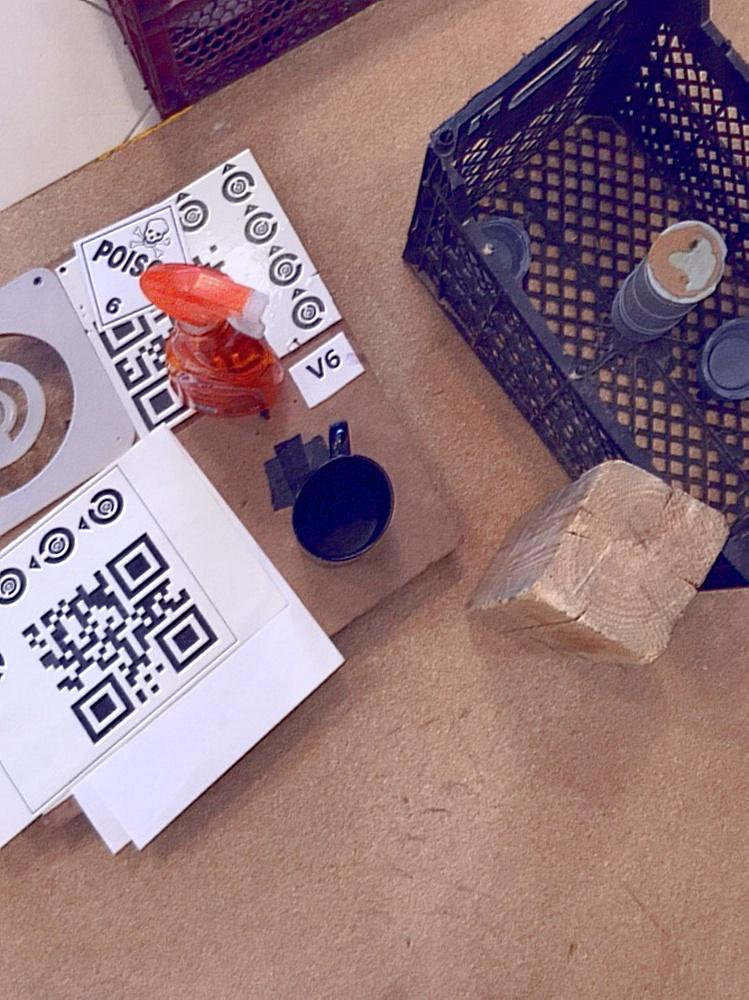poison: (79, 203, 193, 341)
